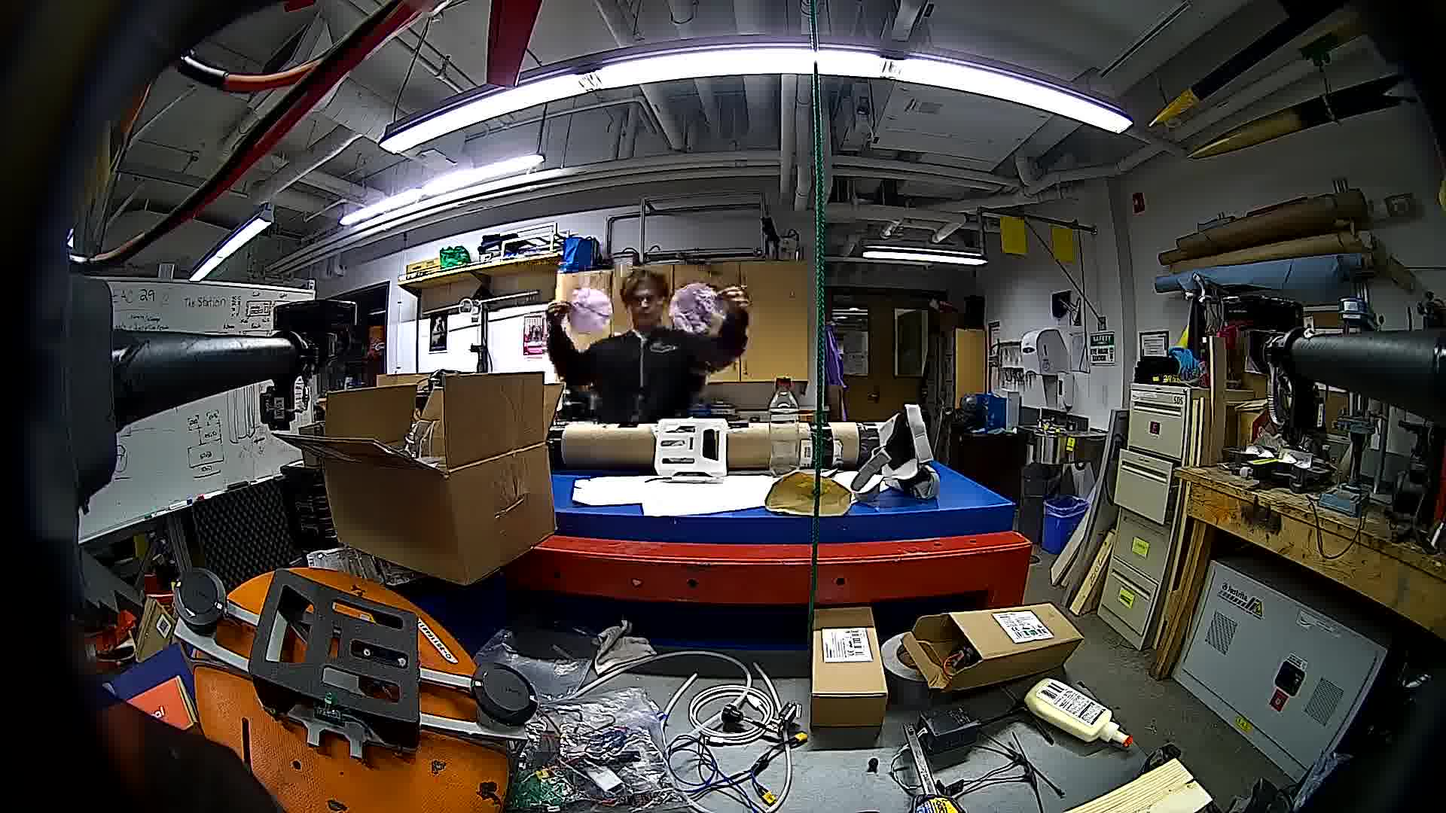Target: (669, 283, 725, 335), (566, 287, 614, 334)
